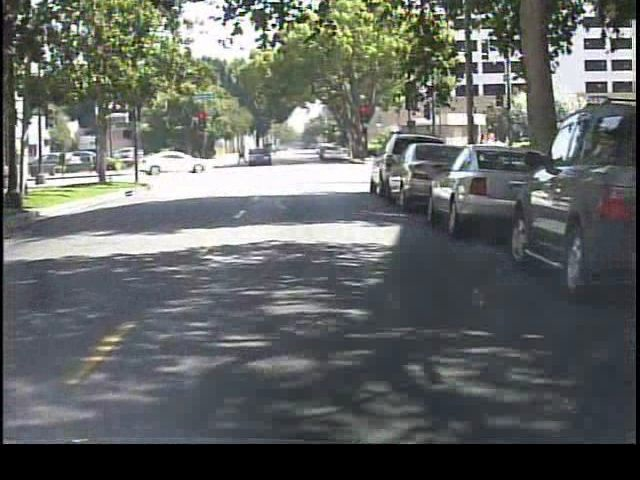person: (235, 142, 249, 168)
